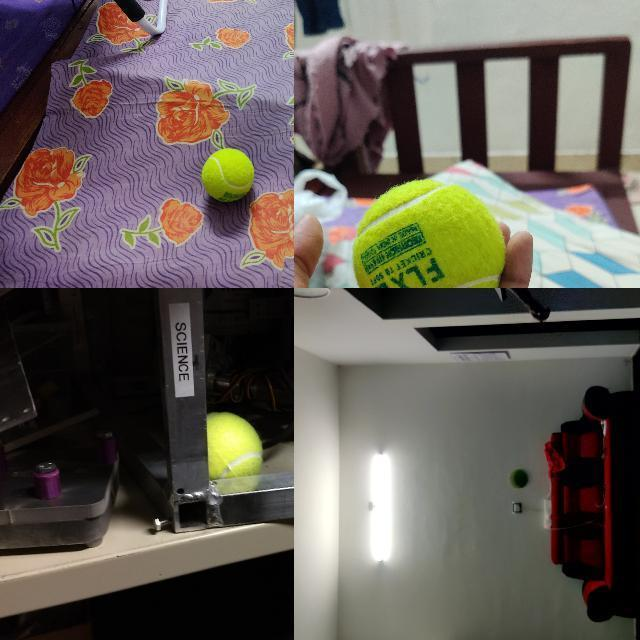tennis-ball: (352, 179, 506, 287), (210, 412, 263, 475), (201, 148, 254, 202), (508, 469, 528, 490)
